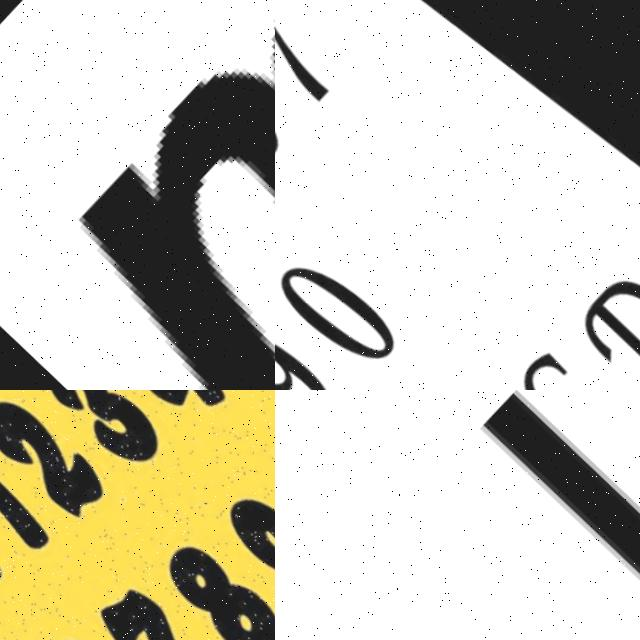0: (275, 219, 418, 390), (220, 390, 275, 588)
1: (0, 402, 71, 576)
2: (0, 390, 131, 541)
3: (0, 390, 192, 495)
4: (37, 390, 266, 462)
6: (0, 588, 192, 640)
7: (46, 539, 251, 640), (275, 0, 365, 130)
8: (108, 490, 275, 640)
9: (177, 444, 275, 637), (275, 292, 354, 390)
J: (333, 390, 640, 640)
M: (0, 0, 275, 390)
